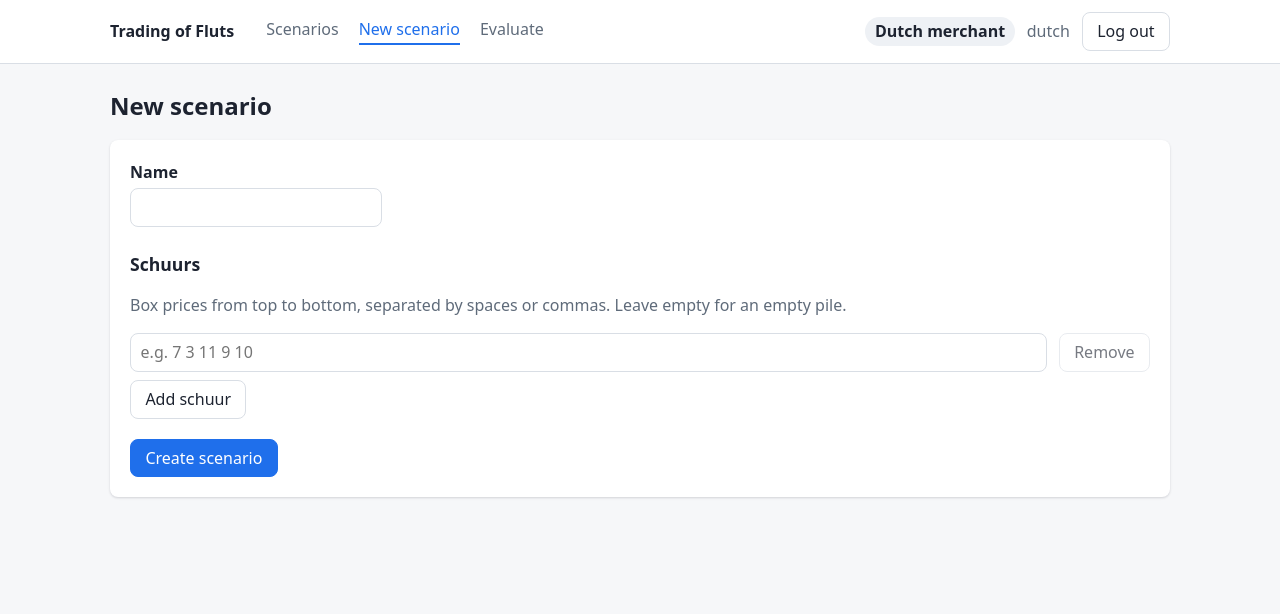
Scenario: NewScenarioPage › shows every field the server rejects
The image size is (1280, 614).
Click the button "Create scenario" at (204, 458), box [130, 438, 278, 477]
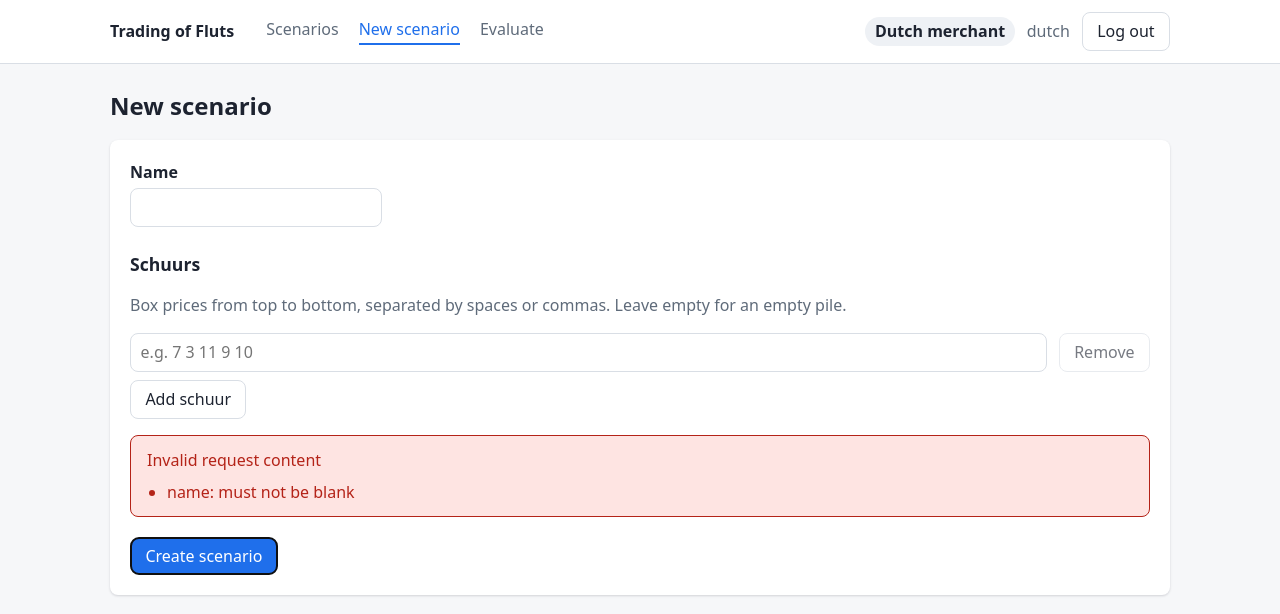
Now the list item "name: must not be blank" is shown, box [167, 480, 355, 502]
